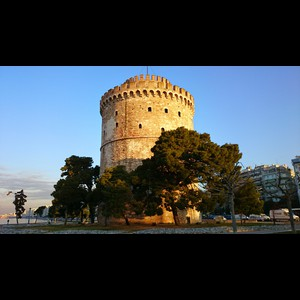White Tower: (95, 68, 201, 228)
